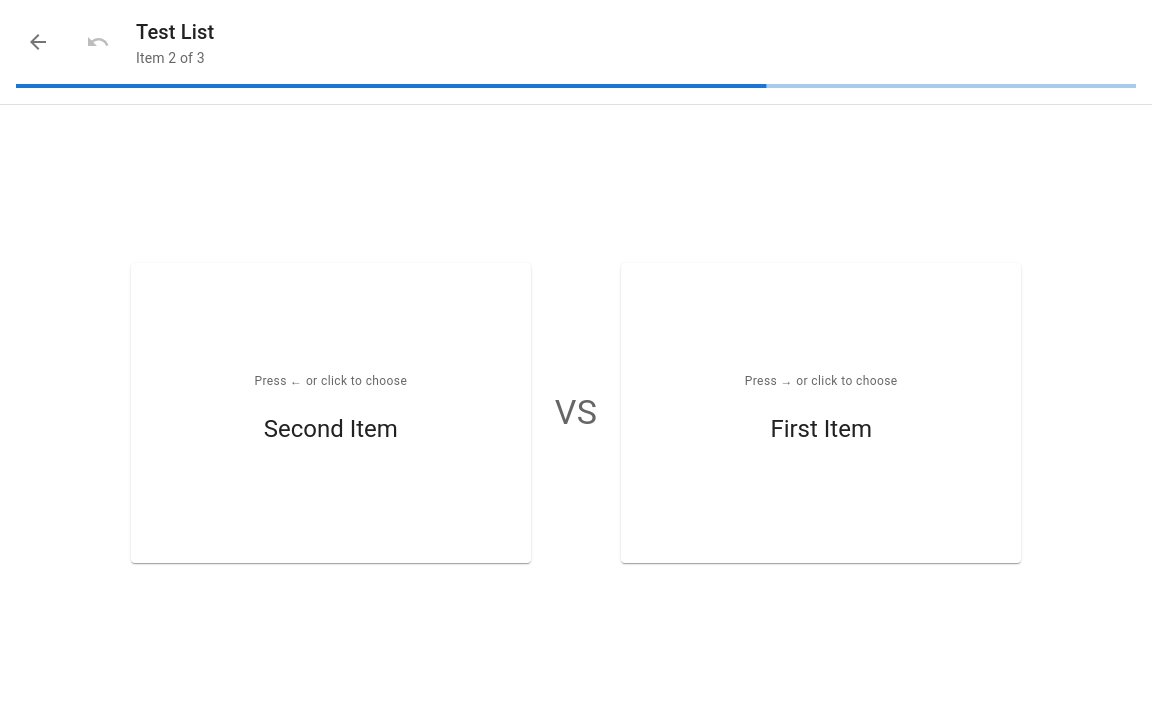
Test: RankingView › User Interactions › opens exit dialog when back button clicked
Click the 1st button: {"x": 38, "y": 42} [16, 20, 60, 64]
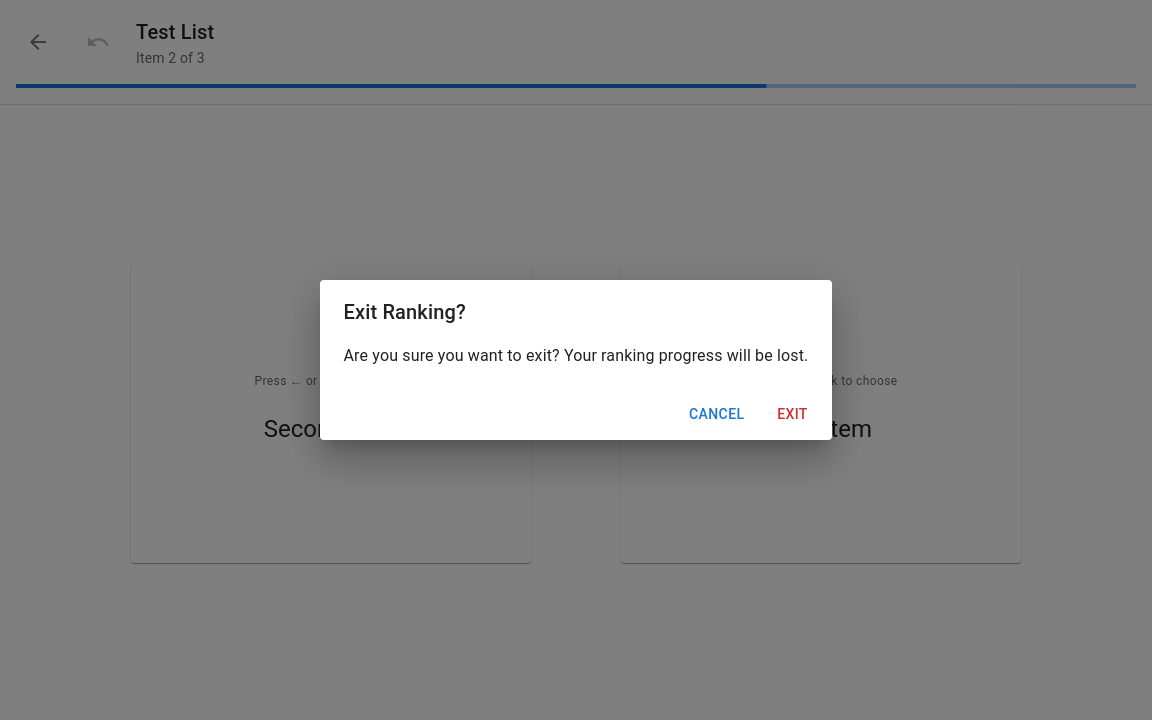
Check: the heading "Exit Ranking?" is shown, box [344, 300, 466, 324]
